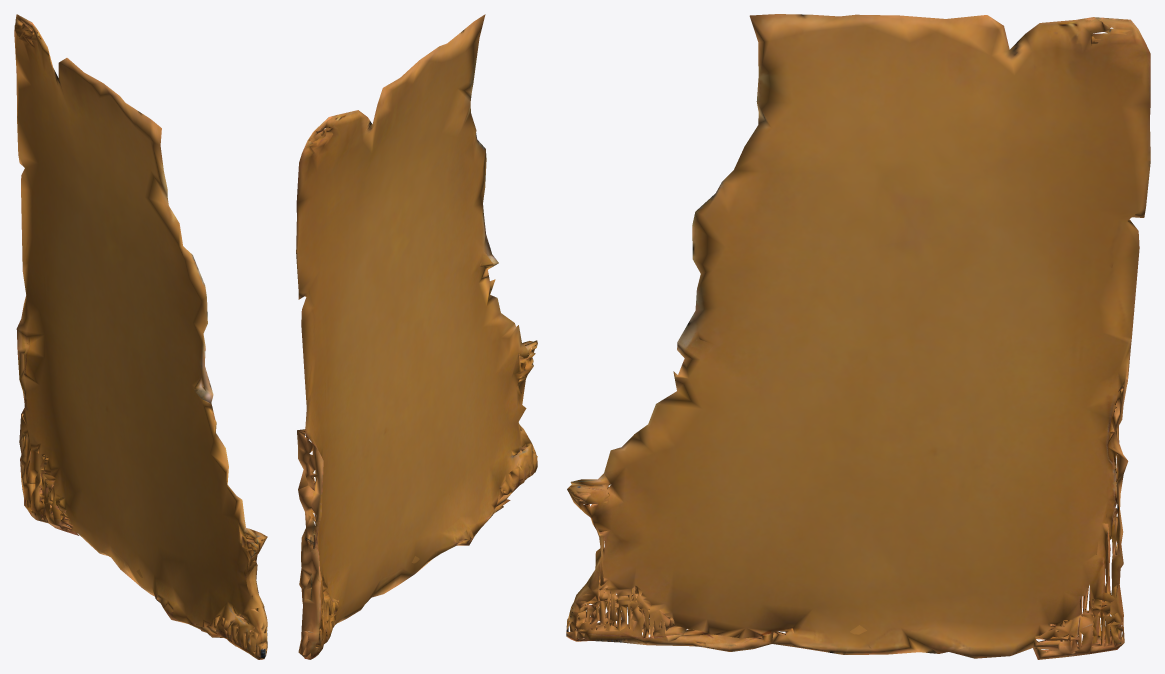
Rendered from Tattered_Parchment_0725002404_texture.fbx.
3 views of the same model, side by side, from view 1: azimuth 30°, elevation 25°; view 2: azimuth 150°, elevation 25°; view 3: azimuth 270°, elevation 25° (orthographic). The views are drawn at different scales.
Parts seen in each view (by area): view 1: input; view 2: input; view 3: input.
Boxes of the visible parts, x1=… form: input: x1=14, y1=14, x2=267, y2=659; input: x1=296, y1=14, x2=537, y2=659; input: x1=566, y1=14, x2=1150, y2=659.
Size of the model in its own units: 16.46 by 197 by 166.
1 material, 1 textured.
